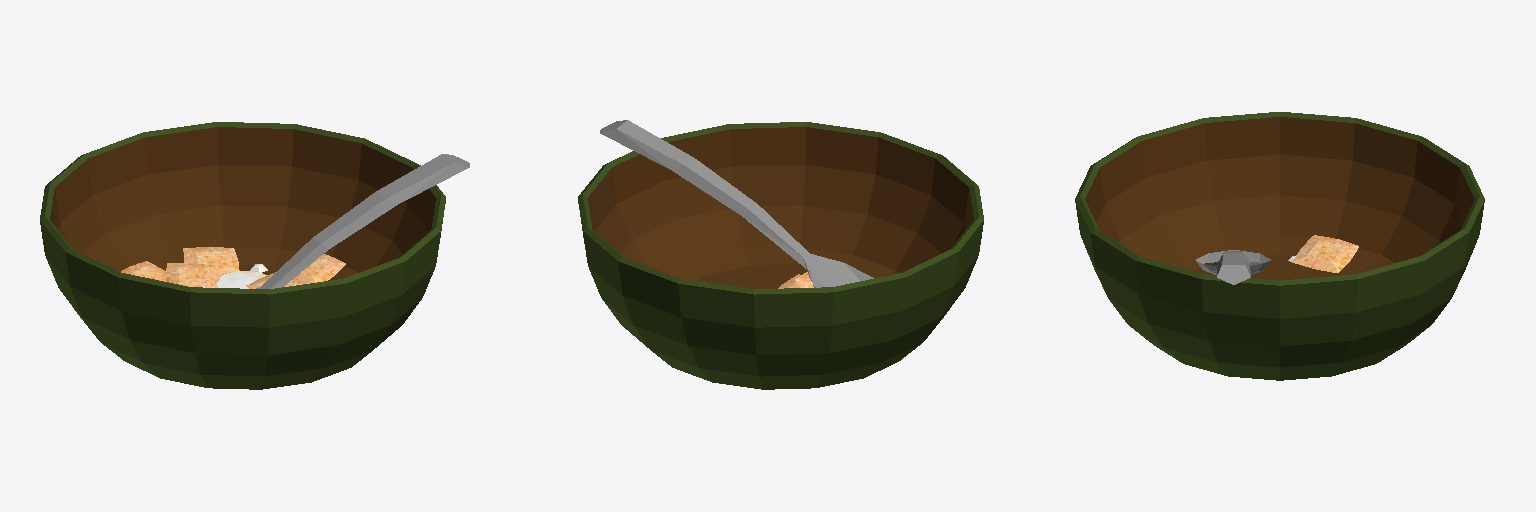
3 views of the same model, side by side, from view 1: azimuth 30°, elevation 25°; view 2: azimuth 150°, elevation 25°; view 3: azimuth 270°, elevation 25° (orthographic).
Visible parts, largest first — view 1: cerealBowl, Spoon1, cerealBit6, cerealBit3, cerealBit4, milkPuddle; view 2: cerealBowl, Spoon1; view 3: cerealBowl, Spoon1, cerealBit1.
Boxes of the visible parts, box(x1,y1,x2,y2) form: cerealBowl: box(40, 122, 445, 389); Spoon1: box(256, 154, 469, 288); cerealBit6: box(165, 263, 219, 287); cerealBit3: box(183, 247, 239, 274); cerealBit4: box(295, 254, 345, 283); milkPuddle: box(215, 271, 266, 288); cerealBowl: box(578, 122, 983, 389); Spoon1: box(600, 120, 873, 287); cerealBowl: box(1075, 112, 1484, 380); Spoon1: box(1196, 250, 1271, 284); cerealBit1: box(1292, 235, 1358, 272).
Size of the model in its own units: 0.1583 by 0.0583 by 0.1476.
Materials: 14 (3 with a texture image).